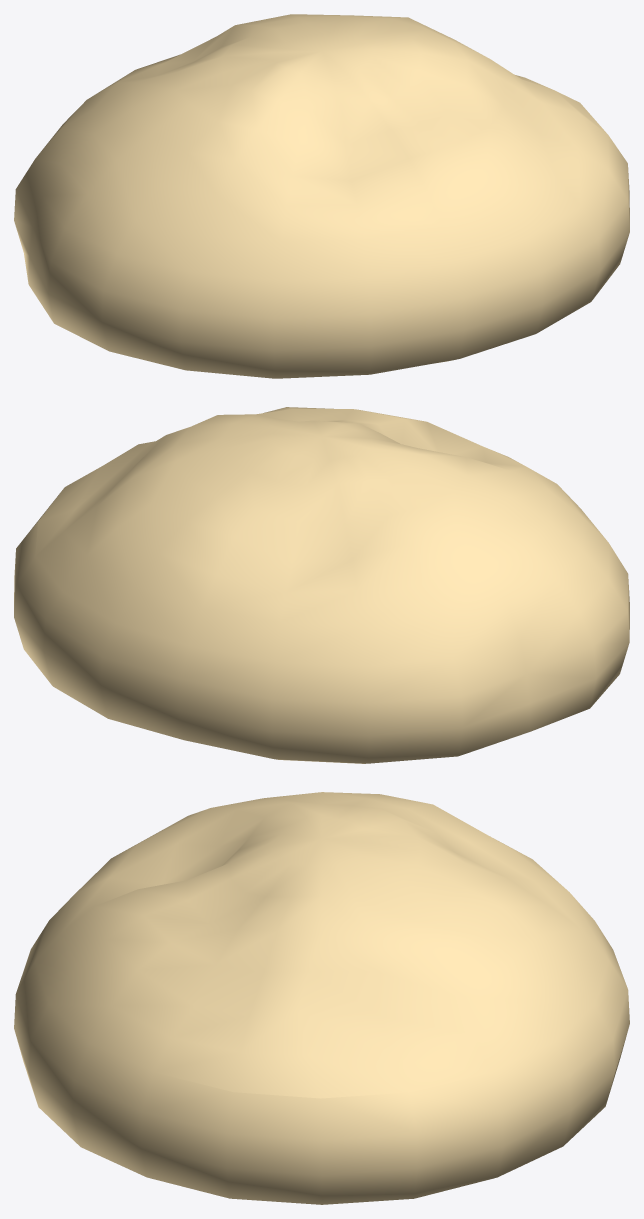
3 renders of one model, top to bottom at view 1: azimuth 30°, elevation 25°; view 2: azimuth 150°, elevation 25°; view 3: azimuth 270°, elevation 25°, orthographic. The views are drawn at different scales.
Parts seen in each view (by area): view 1: Object_2; view 2: Object_2; view 3: Object_2.
Part boxes in pixels (<box>): Object_2: <box>14,14,629,378</box>; Object_2: <box>14,407,629,763</box>; Object_2: <box>14,792,629,1204</box>.
Size of the model in its own units: 787 by 299 by 703.
